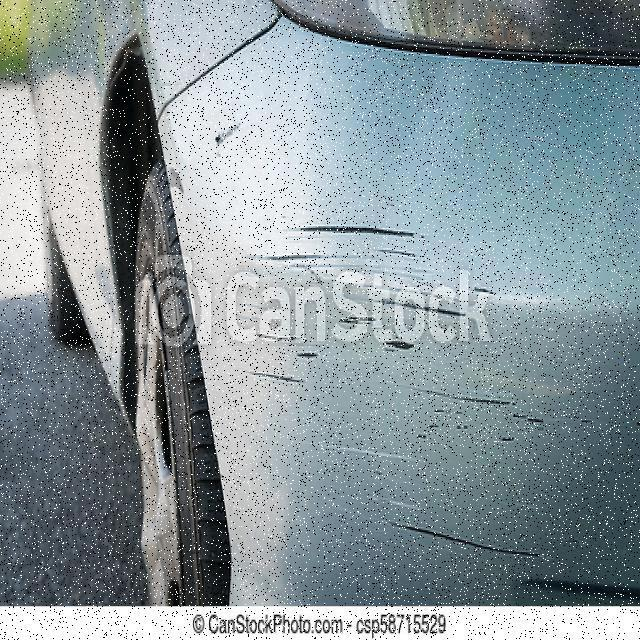front-bumper-dent: (141, 41, 639, 614)
